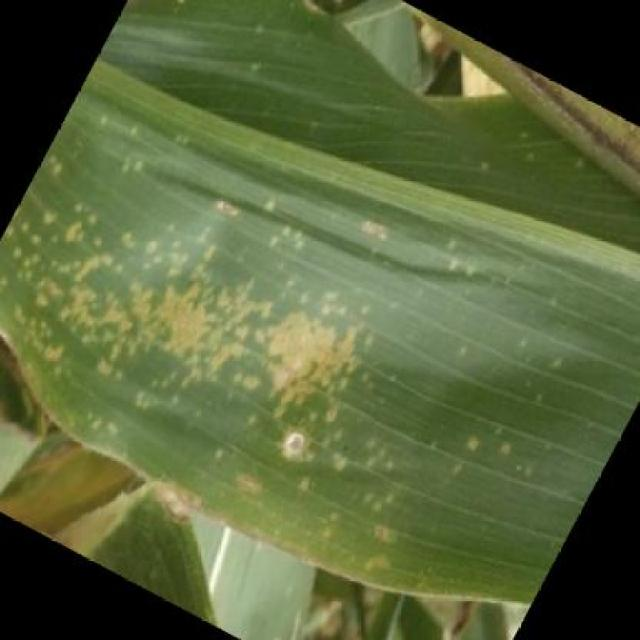Corn_Rust: (57, 140, 468, 532)
